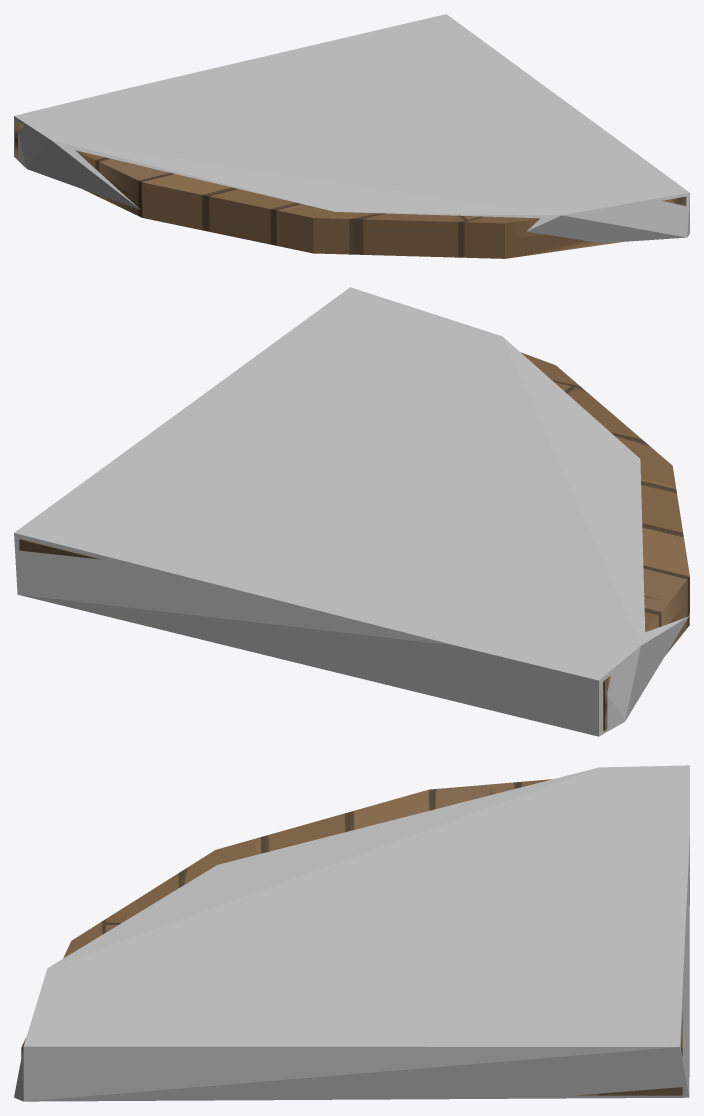
The model's file is SM_Bld_Floor_Round_Small_01.fbx.
3 views of the same model, one above another, from view 1: azimuth 30°, elevation 25°; view 2: azimuth 150°, elevation 25°; view 3: azimuth 270°, elevation 25° (orthographic). The views are drawn at different scales.
Visible parts, largest first — view 1: SM_Bld_Floor_Round_Small_01_ConvexHulls, SM_Bld_Floor_Round_Small_01; view 2: SM_Bld_Floor_Round_Small_01_ConvexHulls, SM_Bld_Floor_Round_Small_01; view 3: SM_Bld_Floor_Round_Small_01_ConvexHulls, SM_Bld_Floor_Round_Small_01.
Part boxes in pixels (bbox=[...]): SM_Bld_Floor_Round_Small_01_ConvexHulls: bbox=[14, 14, 689, 243]; SM_Bld_Floor_Round_Small_01: bbox=[15, 121, 686, 258]; SM_Bld_Floor_Round_Small_01_ConvexHulls: bbox=[14, 287, 688, 736]; SM_Bld_Floor_Round_Small_01: bbox=[19, 352, 689, 731]; SM_Bld_Floor_Round_Small_01_ConvexHulls: bbox=[14, 765, 689, 1101]; SM_Bld_Floor_Round_Small_01: bbox=[21, 779, 682, 1095].
Bounding box in the file's own units: 128 × 129 × 11.54.
Materials: 2 (1 with a texture image).
